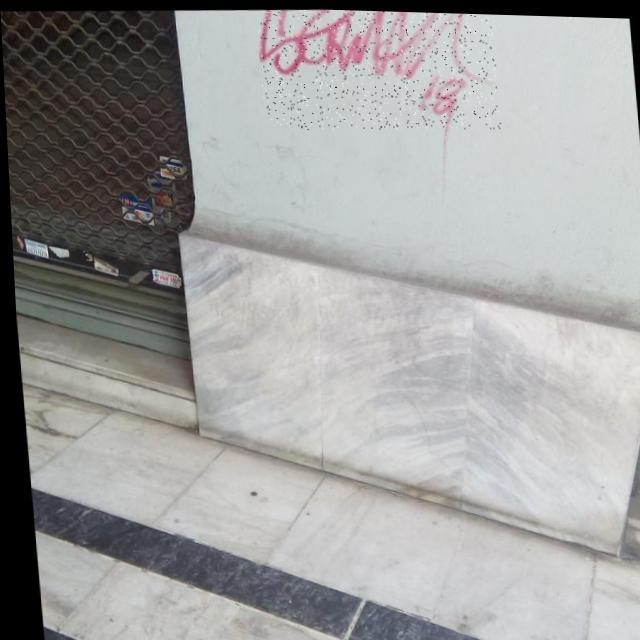-: (255, 5, 500, 134)
